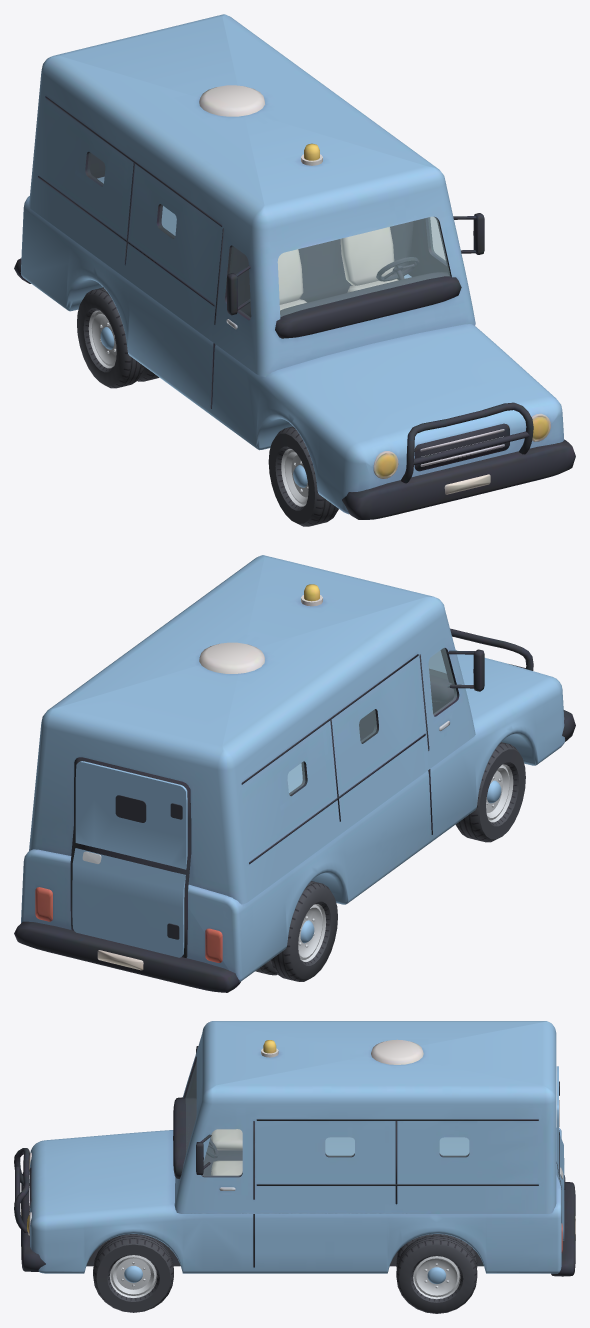
File: veh_armored.glb
The picture shows the model from 3 angles, top to bottom: view 1: azimuth 30°, elevation 25°; view 2: azimuth 150°, elevation 25°; view 3: azimuth 270°, elevation 25°; orthographic projection. The views are drawn at different scales.
Parts seen in each view (by area): view 1: armored-truck_body, armored-truck_windows, armored-truck_wheel_fl; view 2: armored-truck_body, armored-truck_rear_door, armored-truck_wheel_fl, armored-truck_windows; view 3: armored-truck_body, armored-truck_wheel_fl, armored-truck_windows, armored-truck_rear_door.
Part boxes in pixels (x1=…): armored-truck_body: x1=14, y1=14, x2=575, y2=519; armored-truck_windows: x1=87, y1=152, x2=449, y2=318; armored-truck_wheel_fl: x1=77, y1=287, x2=338, y2=526; armored-truck_body: x1=14, y1=555, x2=575, y2=992; armored-truck_rear_door: x1=72, y1=761, x2=501, y2=957; armored-truck_wheel_fl: x1=255, y1=742, x2=525, y2=981; armored-truck_windows: x1=288, y1=648, x2=456, y2=794; armored-truck_body: x1=14, y1=1021, x2=575, y2=1276; armored-truck_wheel_fl: x1=93, y1=1234, x2=477, y2=1313; armored-truck_windows: x1=185, y1=1062, x2=468, y2=1176; armored-truck_rear_door: x1=124, y1=1066, x2=565, y2=1284.
Size of the model in its own units: 2.67 by 2.92 by 6.39.
Materials: 7 (2 with a texture image).
